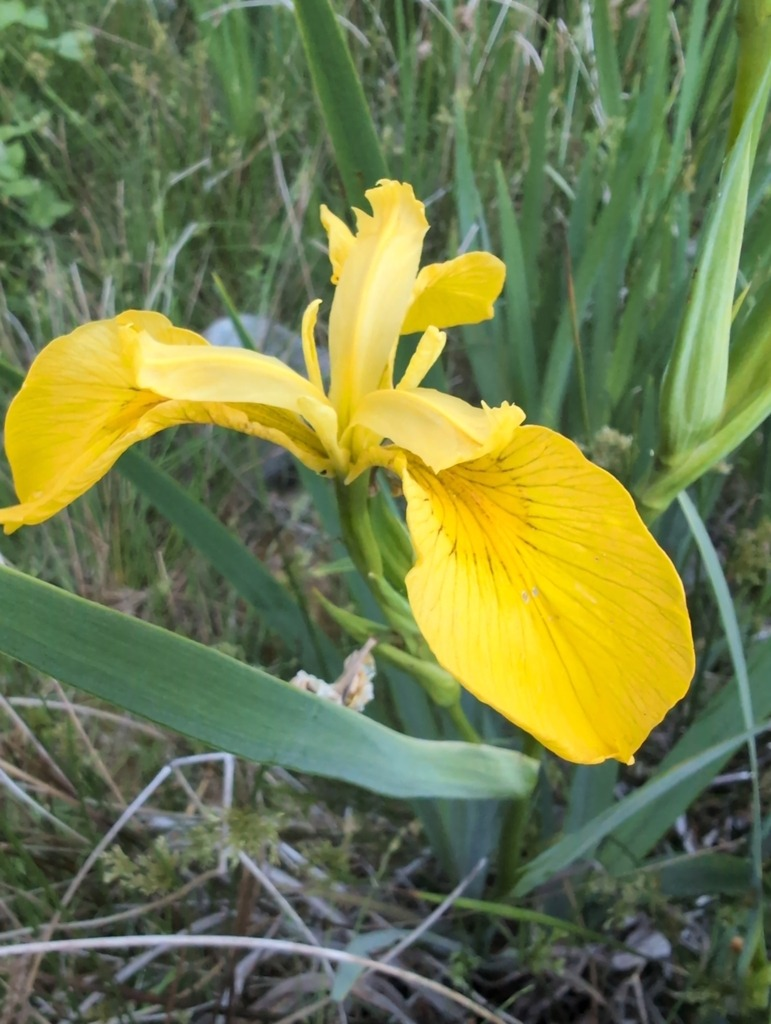yellow flag iris: (3, 175, 700, 771)
